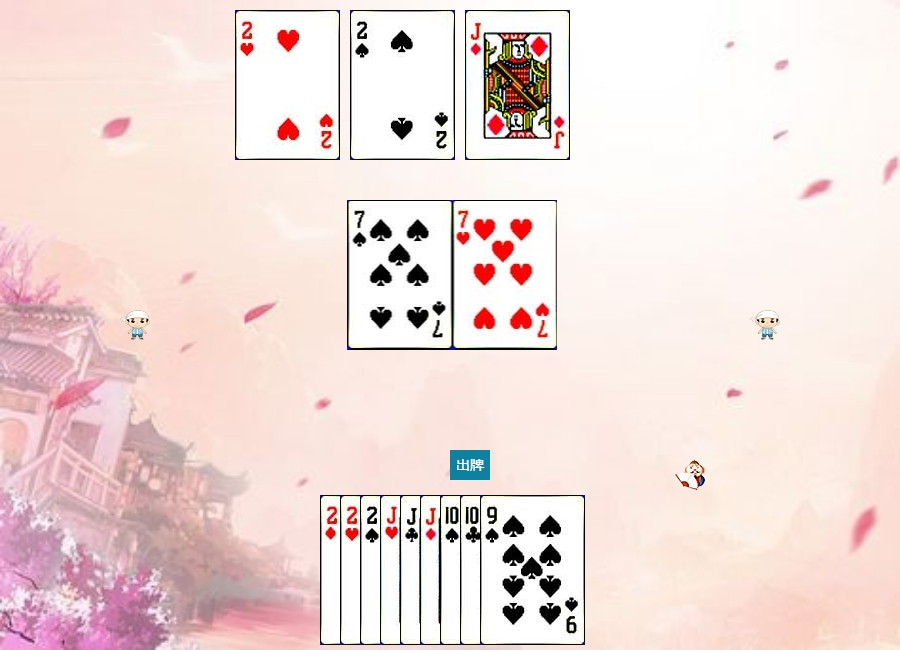10~2: (460, 495, 565, 645)
10~4: (440, 495, 545, 645)
11~1: (465, 10, 570, 160), (420, 495, 525, 645)
11~2: (400, 495, 505, 645)
11~3: (380, 495, 485, 645)
15~1: (320, 495, 425, 645)
15~3: (235, 10, 340, 160), (340, 495, 445, 645)
15~4: (350, 10, 455, 160), (360, 495, 465, 645)
7~3: (453, 200, 558, 350)
7~4: (348, 200, 453, 350)
9~4: (480, 495, 585, 645)
